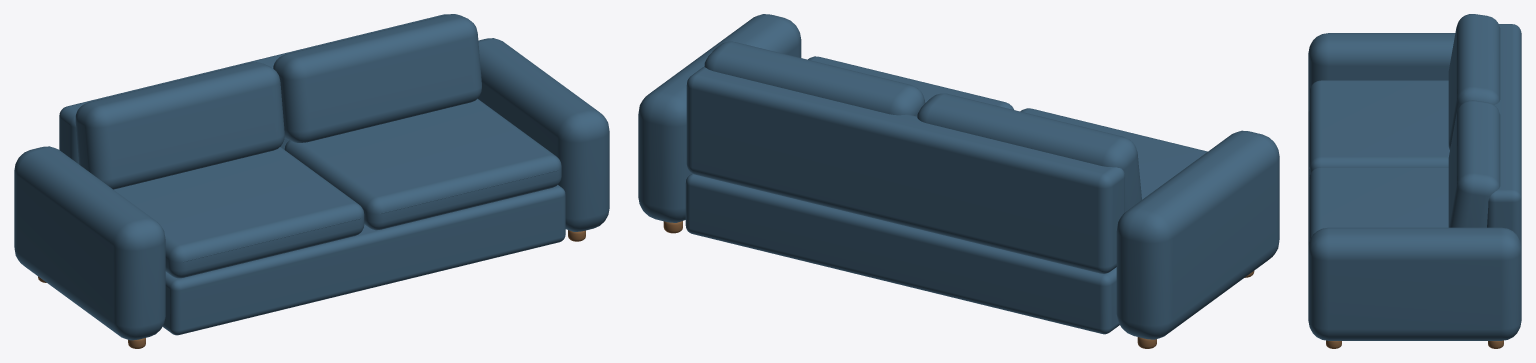
The model's file is sofa.glb.
3 views of the same model, side by side, from view 1: azimuth 30°, elevation 25°; view 2: azimuth 150°, elevation 25°; view 3: azimuth 270°, elevation 25° (orthographic). The views are drawn at different scales.
Visible parts, largest first — view 1: Upholstered base, Seat cushion 2, Arm, Seat cushion 1, Back cushion 1, Back cushion 2, Arm.001, Back structure; view 2: Back structure, Upholstered base, Arm, Arm.001, Back cushion 1, Back cushion 2, Seat cushion 1, Seat cushion 2; view 3: Arm.001, Seat cushion 1, Seat cushion 2, Arm, Back cushion 2, Back structure, Back cushion 1, Upholstered base.
Boxes of the visible parts, x1,y1,x2,y2 form: Upholstered base: (162, 185, 565, 335); Seat cushion 2: (284, 98, 561, 230); Arm: (14, 146, 165, 340); Seat cushion 1: (114, 147, 364, 278); Back cushion 1: (75, 62, 284, 189); Back cushion 2: (273, 14, 481, 142); Arm.001: (478, 38, 609, 231); Back structure: (59, 14, 447, 163); Back structure: (686, 67, 1124, 273); Upholstered base: (685, 173, 1119, 334); Arm: (1116, 130, 1279, 339); Arm.001: (638, 14, 801, 222); Back cushion 1: (917, 93, 1141, 212); Back cushion 2: (704, 41, 925, 116); Seat cushion 1: (1020, 108, 1207, 199); Seat cushion 2: (808, 56, 1013, 109); Arm.001: (1308, 227, 1521, 340); Seat cushion 1: (1309, 80, 1449, 175); Seat cushion 2: (1309, 167, 1448, 240); Arm: (1308, 33, 1455, 112); Back cushion 2: (1448, 100, 1500, 227); Back structure: (1487, 24, 1521, 246); Back cushion 1: (1448, 14, 1500, 149); Upholstered base: (1308, 111, 1309, 246).
Bounding box in the file's own units: 2.4 × 0.8074 × 1.
